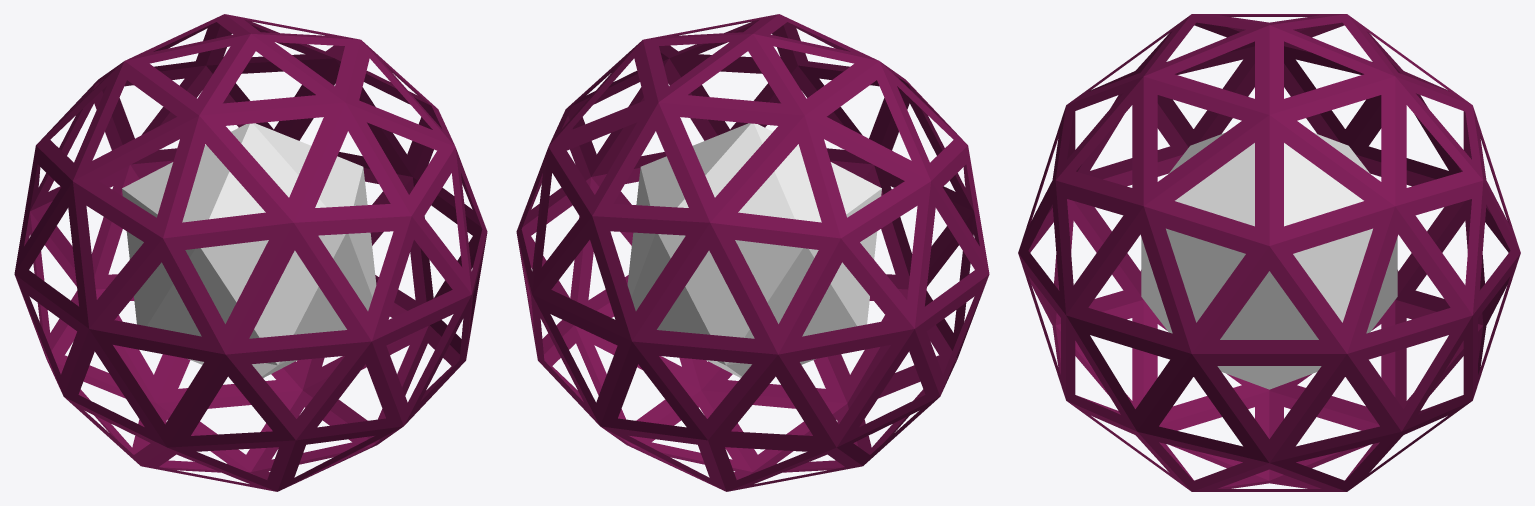
The model's file is decorative thingamajig 4.fbx.
The picture shows the model from 3 angles, left to right: view 1: azimuth 30°, elevation 25°; view 2: azimuth 150°, elevation 25°; view 3: azimuth 270°, elevation 25°; orthographic projection. The views are drawn at different scales.
Parts seen in each view (by area): view 1: Icosphere; view 2: Icosphere; view 3: Icosphere.
Boxes of the visible parts, left/top/right/bottom form: Icosphere: left=14, top=14, right=487, bottom=491; Icosphere: left=516, top=14, right=989, bottom=491; Icosphere: left=1018, top=14, right=1520, bottom=491.
Size of the model in its own units: 190 by 200 by 200.
